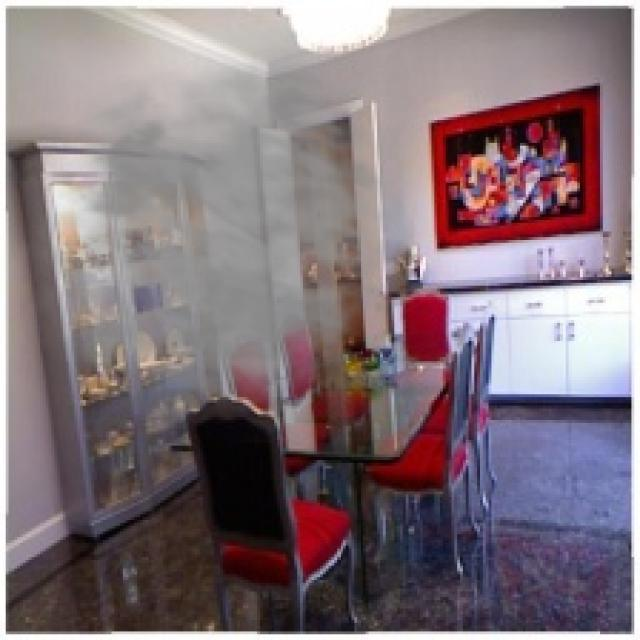Smoke: (3, 48, 420, 443)
